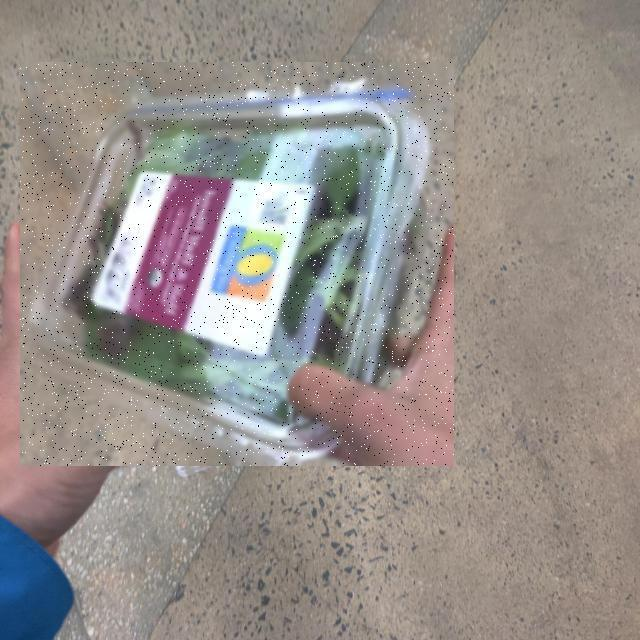Lettuce: (20, 62, 454, 466)
